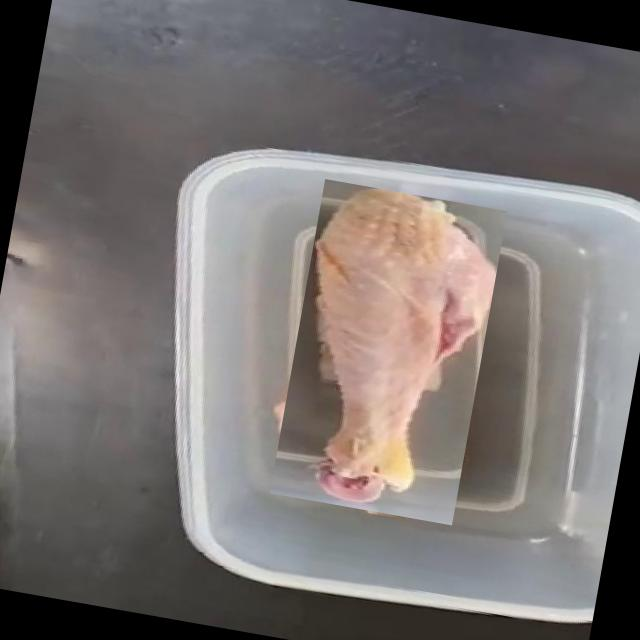chicken: (269, 179, 508, 526)
